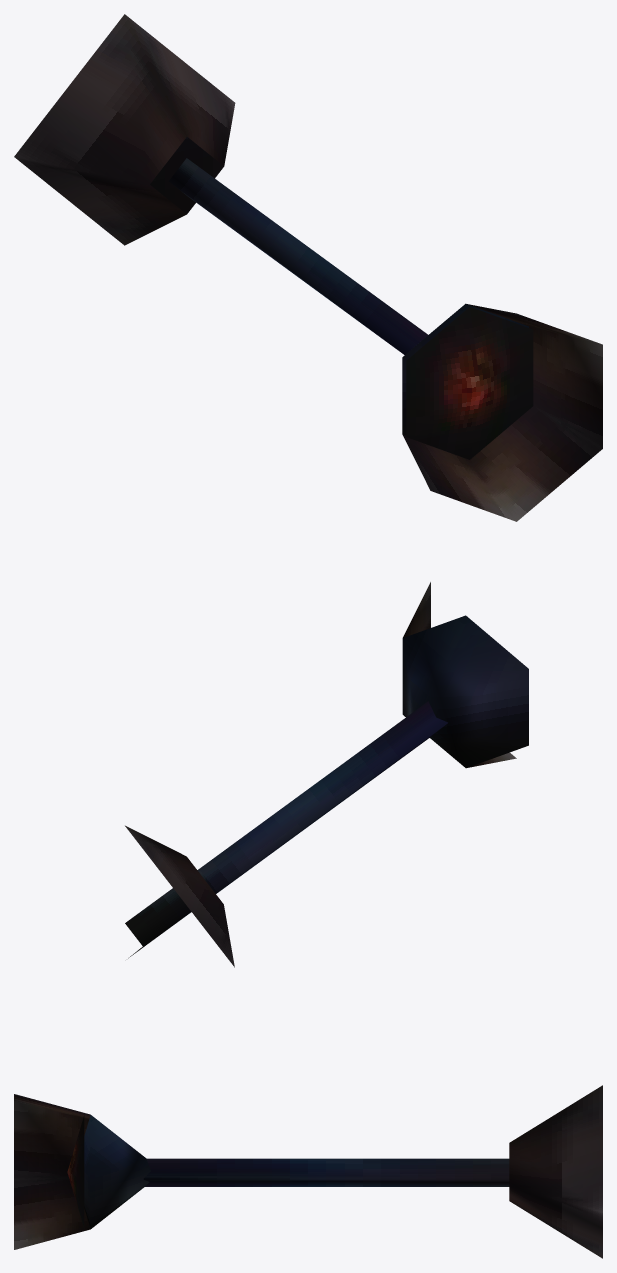
File: FireLight01.glb
3 renders of one model, top to bottom at view 1: azimuth 30°, elevation 25°; view 2: azimuth 150°, elevation 25°; view 3: azimuth 270°, elevation 25°, orthographic. The views are drawn at different scales.
Visible parts, largest first — view 1: model_FireLight01; view 2: model_FireLight01; view 3: model_FireLight01.
Part boxes in pixels (bbox=[...]): model_FireLight01: bbox=[14, 14, 602, 521]; model_FireLight01: bbox=[125, 582, 528, 967]; model_FireLight01: bbox=[14, 1085, 602, 1258].
Size of the model in its own units: 0.5718 by 0.5718 by 1.76.
Materials: 3 (3 with a texture image).
